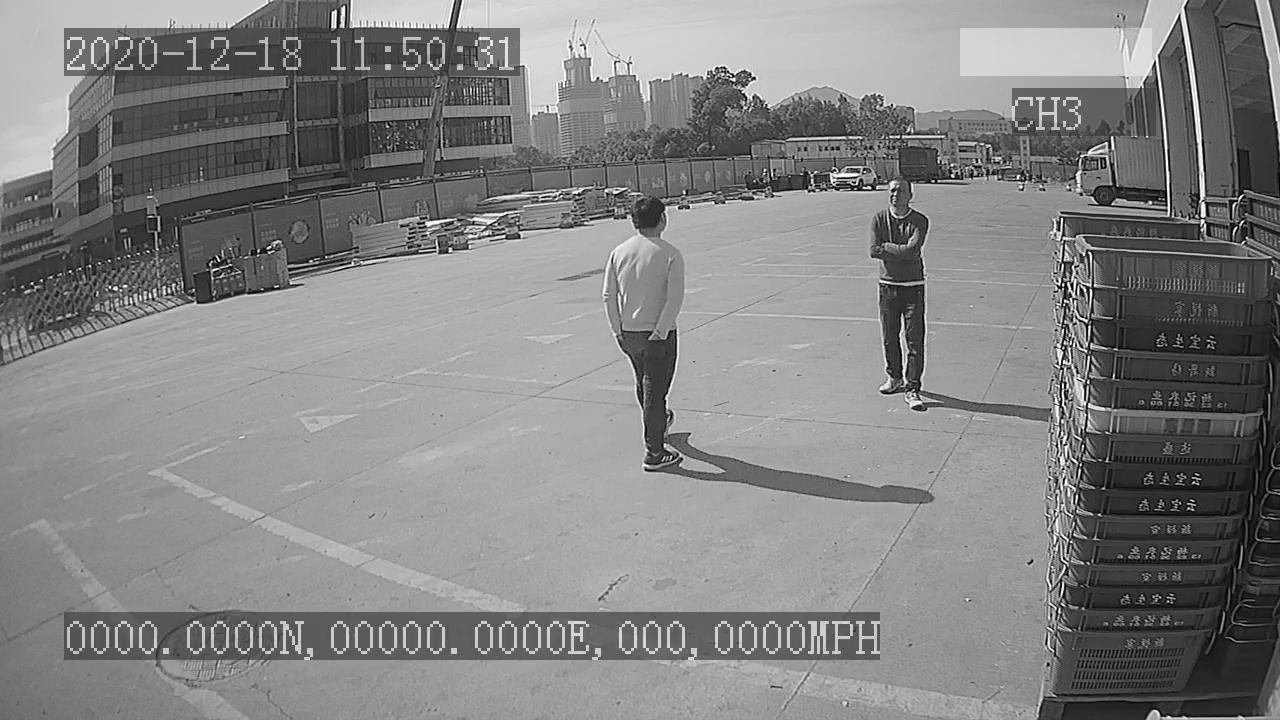person: (597, 190, 688, 474), (867, 174, 933, 413)
